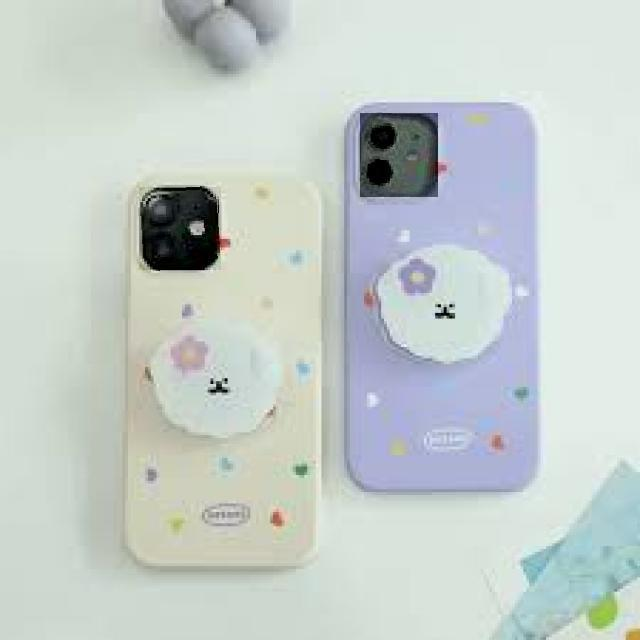phone: (338, 93, 547, 498), (124, 172, 328, 573)
